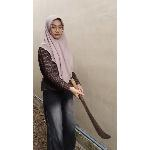Golok: (68, 74, 114, 140)
